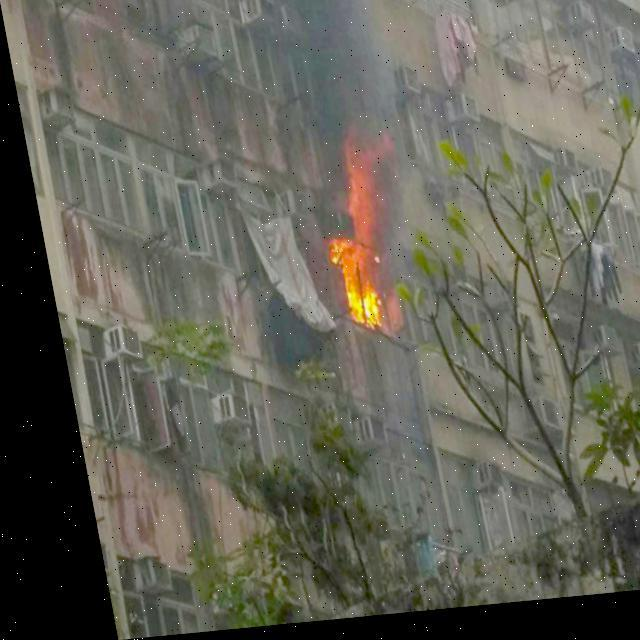Fire: (318, 240, 374, 336)
